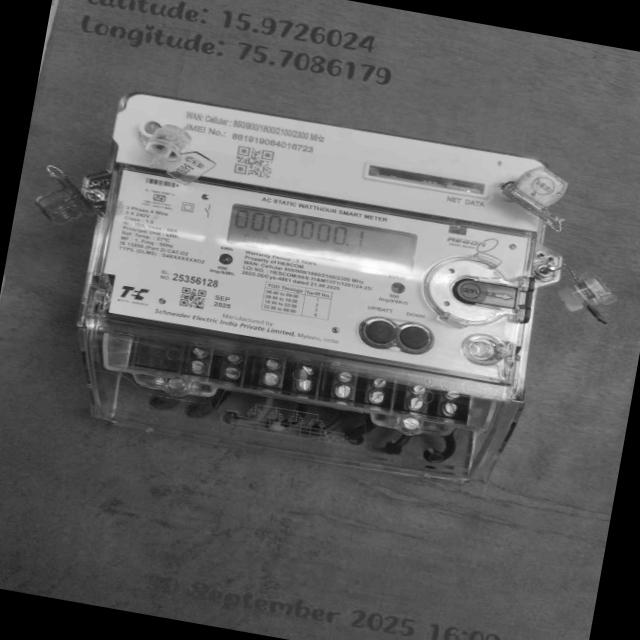meter: (80, 92, 563, 405)
